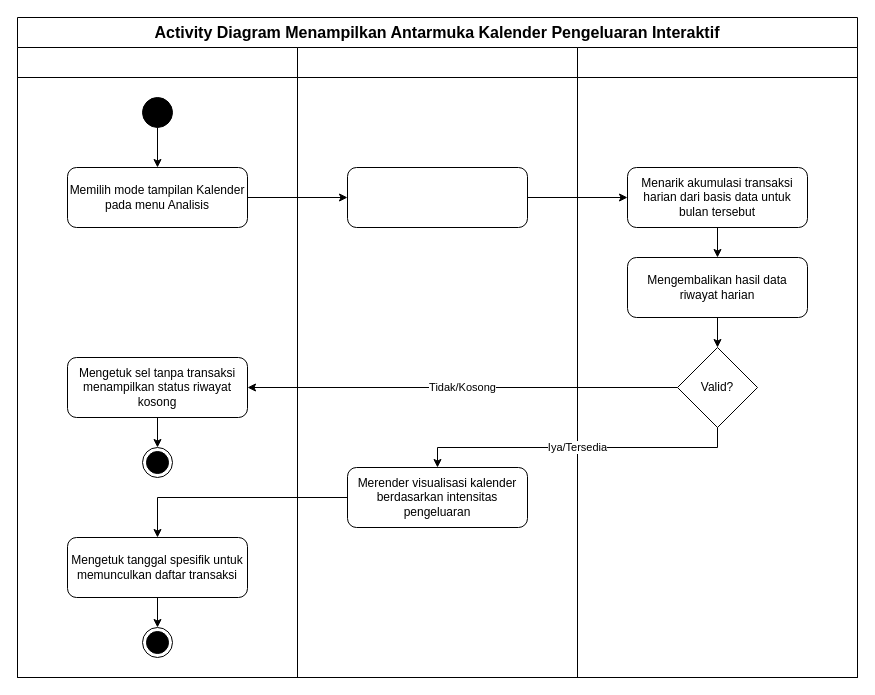
This 875x695 diagram has some shape labels left out. Here are the shapes that lost their labels. From the top down, the box of each, then its label:
(346, 166, 528, 228): Mengidentifikasi bulan dan tahun, lalu meminta data akumulasi ke Web Service
(16, 46, 298, 678): Masyarakat
(296, 46, 578, 678): Sistem
(576, 46, 858, 678): Web Service
